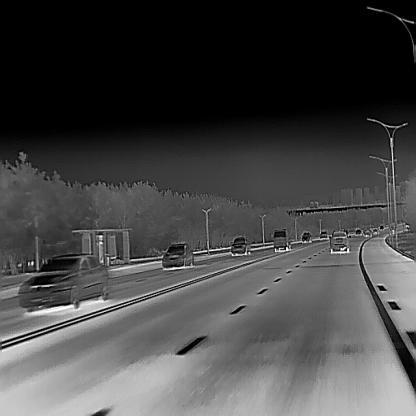car: (17, 252, 110, 309), (161, 242, 193, 267), (329, 228, 351, 251), (272, 228, 291, 250), (230, 236, 250, 254), (301, 231, 311, 242), (319, 229, 328, 238), (363, 228, 371, 236), (355, 228, 361, 234), (373, 228, 378, 233), (380, 225, 383, 229)
